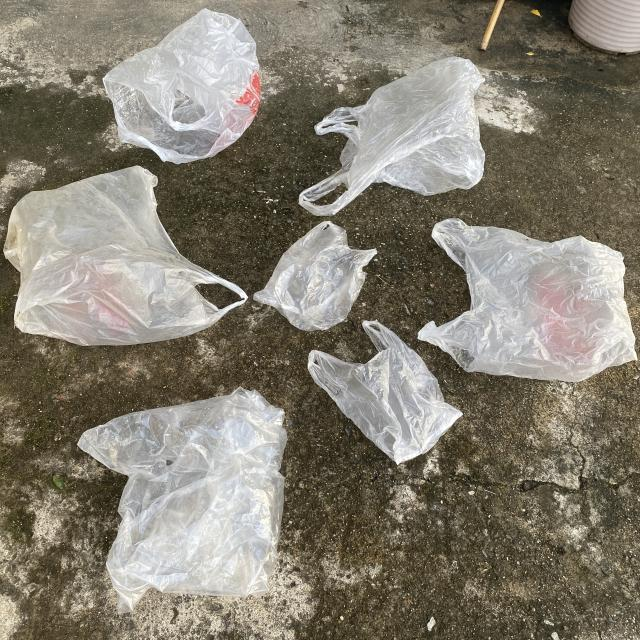Single-layer Plastic: (79, 388, 286, 612), (4, 166, 248, 345), (419, 219, 636, 381), (299, 58, 485, 215), (104, 9, 261, 164), (308, 321, 462, 464), (254, 221, 376, 331)
